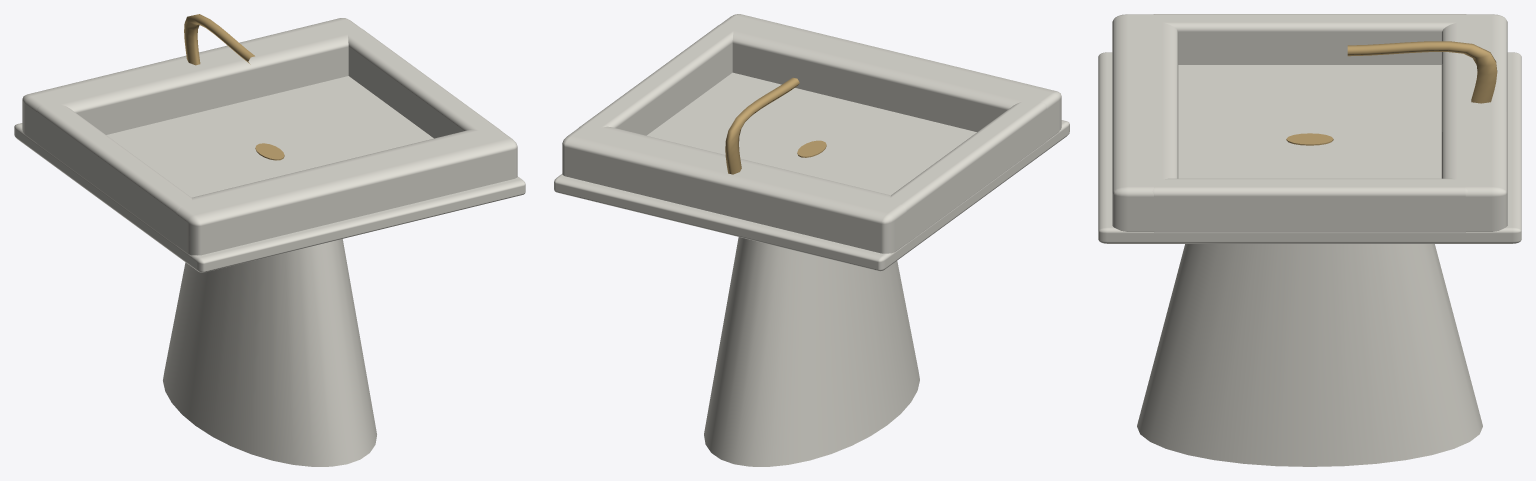
Rendered from sink-13-2.glb.
The picture shows the model from 3 angles, left to right: view 1: azimuth 30°, elevation 25°; view 2: azimuth 150°, elevation 25°; view 3: azimuth 270°, elevation 25°; orthographic projection. The views are drawn at different scales.
Visible parts, largest first — view 1: part (×2); view 2: part (×2); view 3: part (×2).
Boxes of the visible parts, x1,y1,x2,y2 form: part (×2): (14, 14, 525, 466); part (×2): (554, 14, 1069, 466); part (×2): (1098, 14, 1521, 466).
Size of the model in its own units: 1 by 1 by 1.
